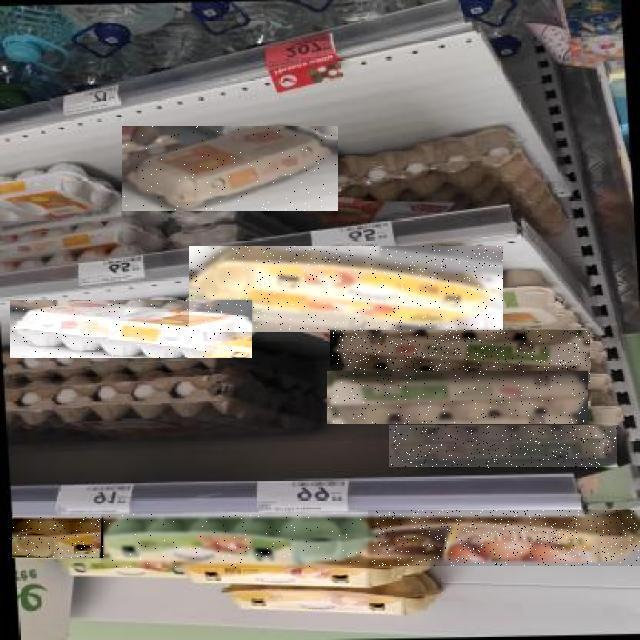Eggs: (189, 246, 503, 332), (122, 126, 338, 211), (368, 511, 640, 567), (101, 514, 374, 568), (330, 330, 590, 384), (10, 300, 252, 358), (327, 371, 588, 424), (390, 426, 620, 470), (12, 517, 103, 558)
